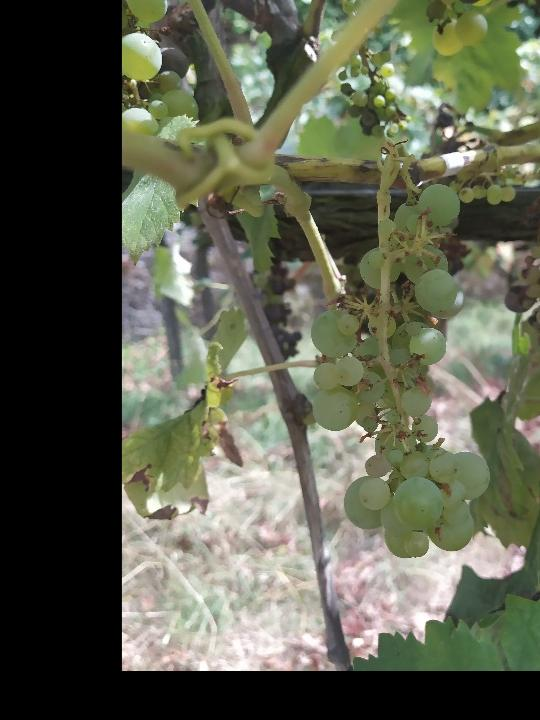grape: (308, 181, 494, 562)
